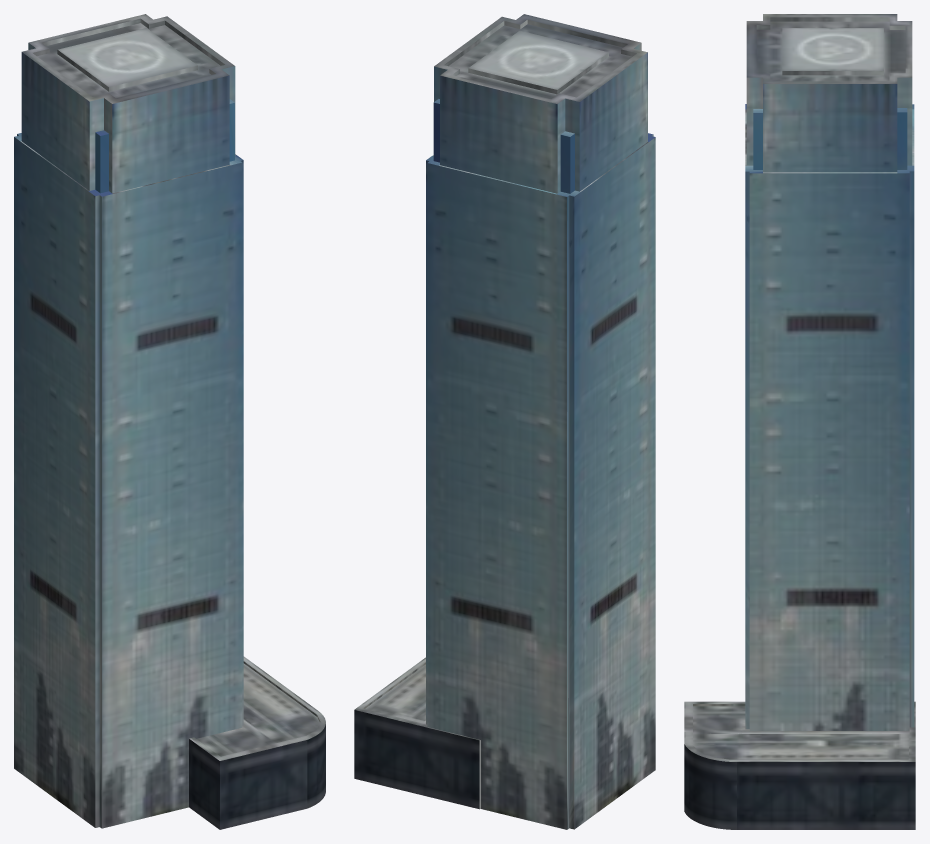
Rendered from lord_center_a035ce82.glb.
3 renders of one model, left to right at view 1: azimuth 30°, elevation 25°; view 2: azimuth 150°, elevation 25°; view 3: azimuth 270°, elevation 25°, orthographic.
Parts seen in each view (by area): view 1: lord_center_a035ce82; view 2: lord_center_a035ce82; view 3: lord_center_a035ce82.
Part boxes in pixels (left/top/right/bottom): lord_center_a035ce82: left=14, top=14, right=325, bottom=829; lord_center_a035ce82: left=354, top=14, right=655, bottom=829; lord_center_a035ce82: left=684, top=14, right=915, bottom=829.
Bounding box in the file's own units: 60.58 × 192 × 56.66.
1 material, 1 textured.
